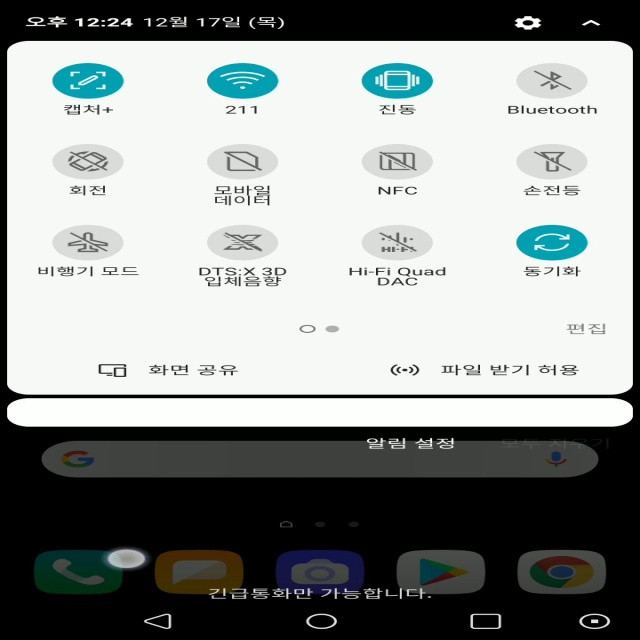Cursor: (104, 549, 149, 571)
